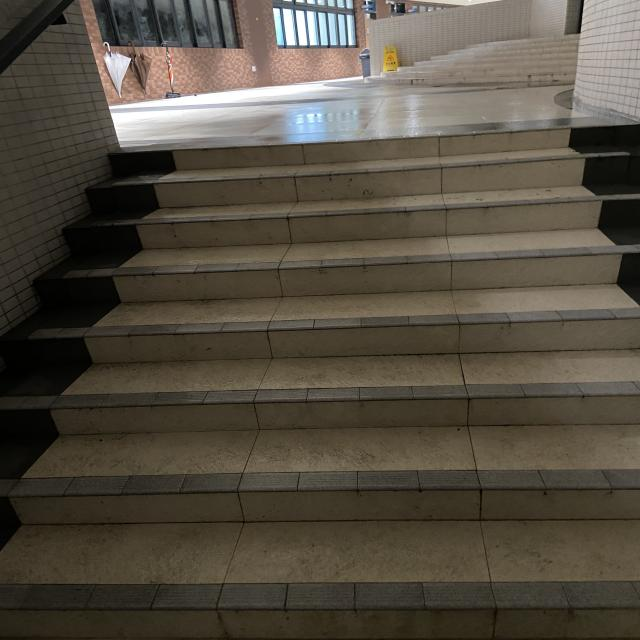Stairs: (0, 119, 640, 640)
